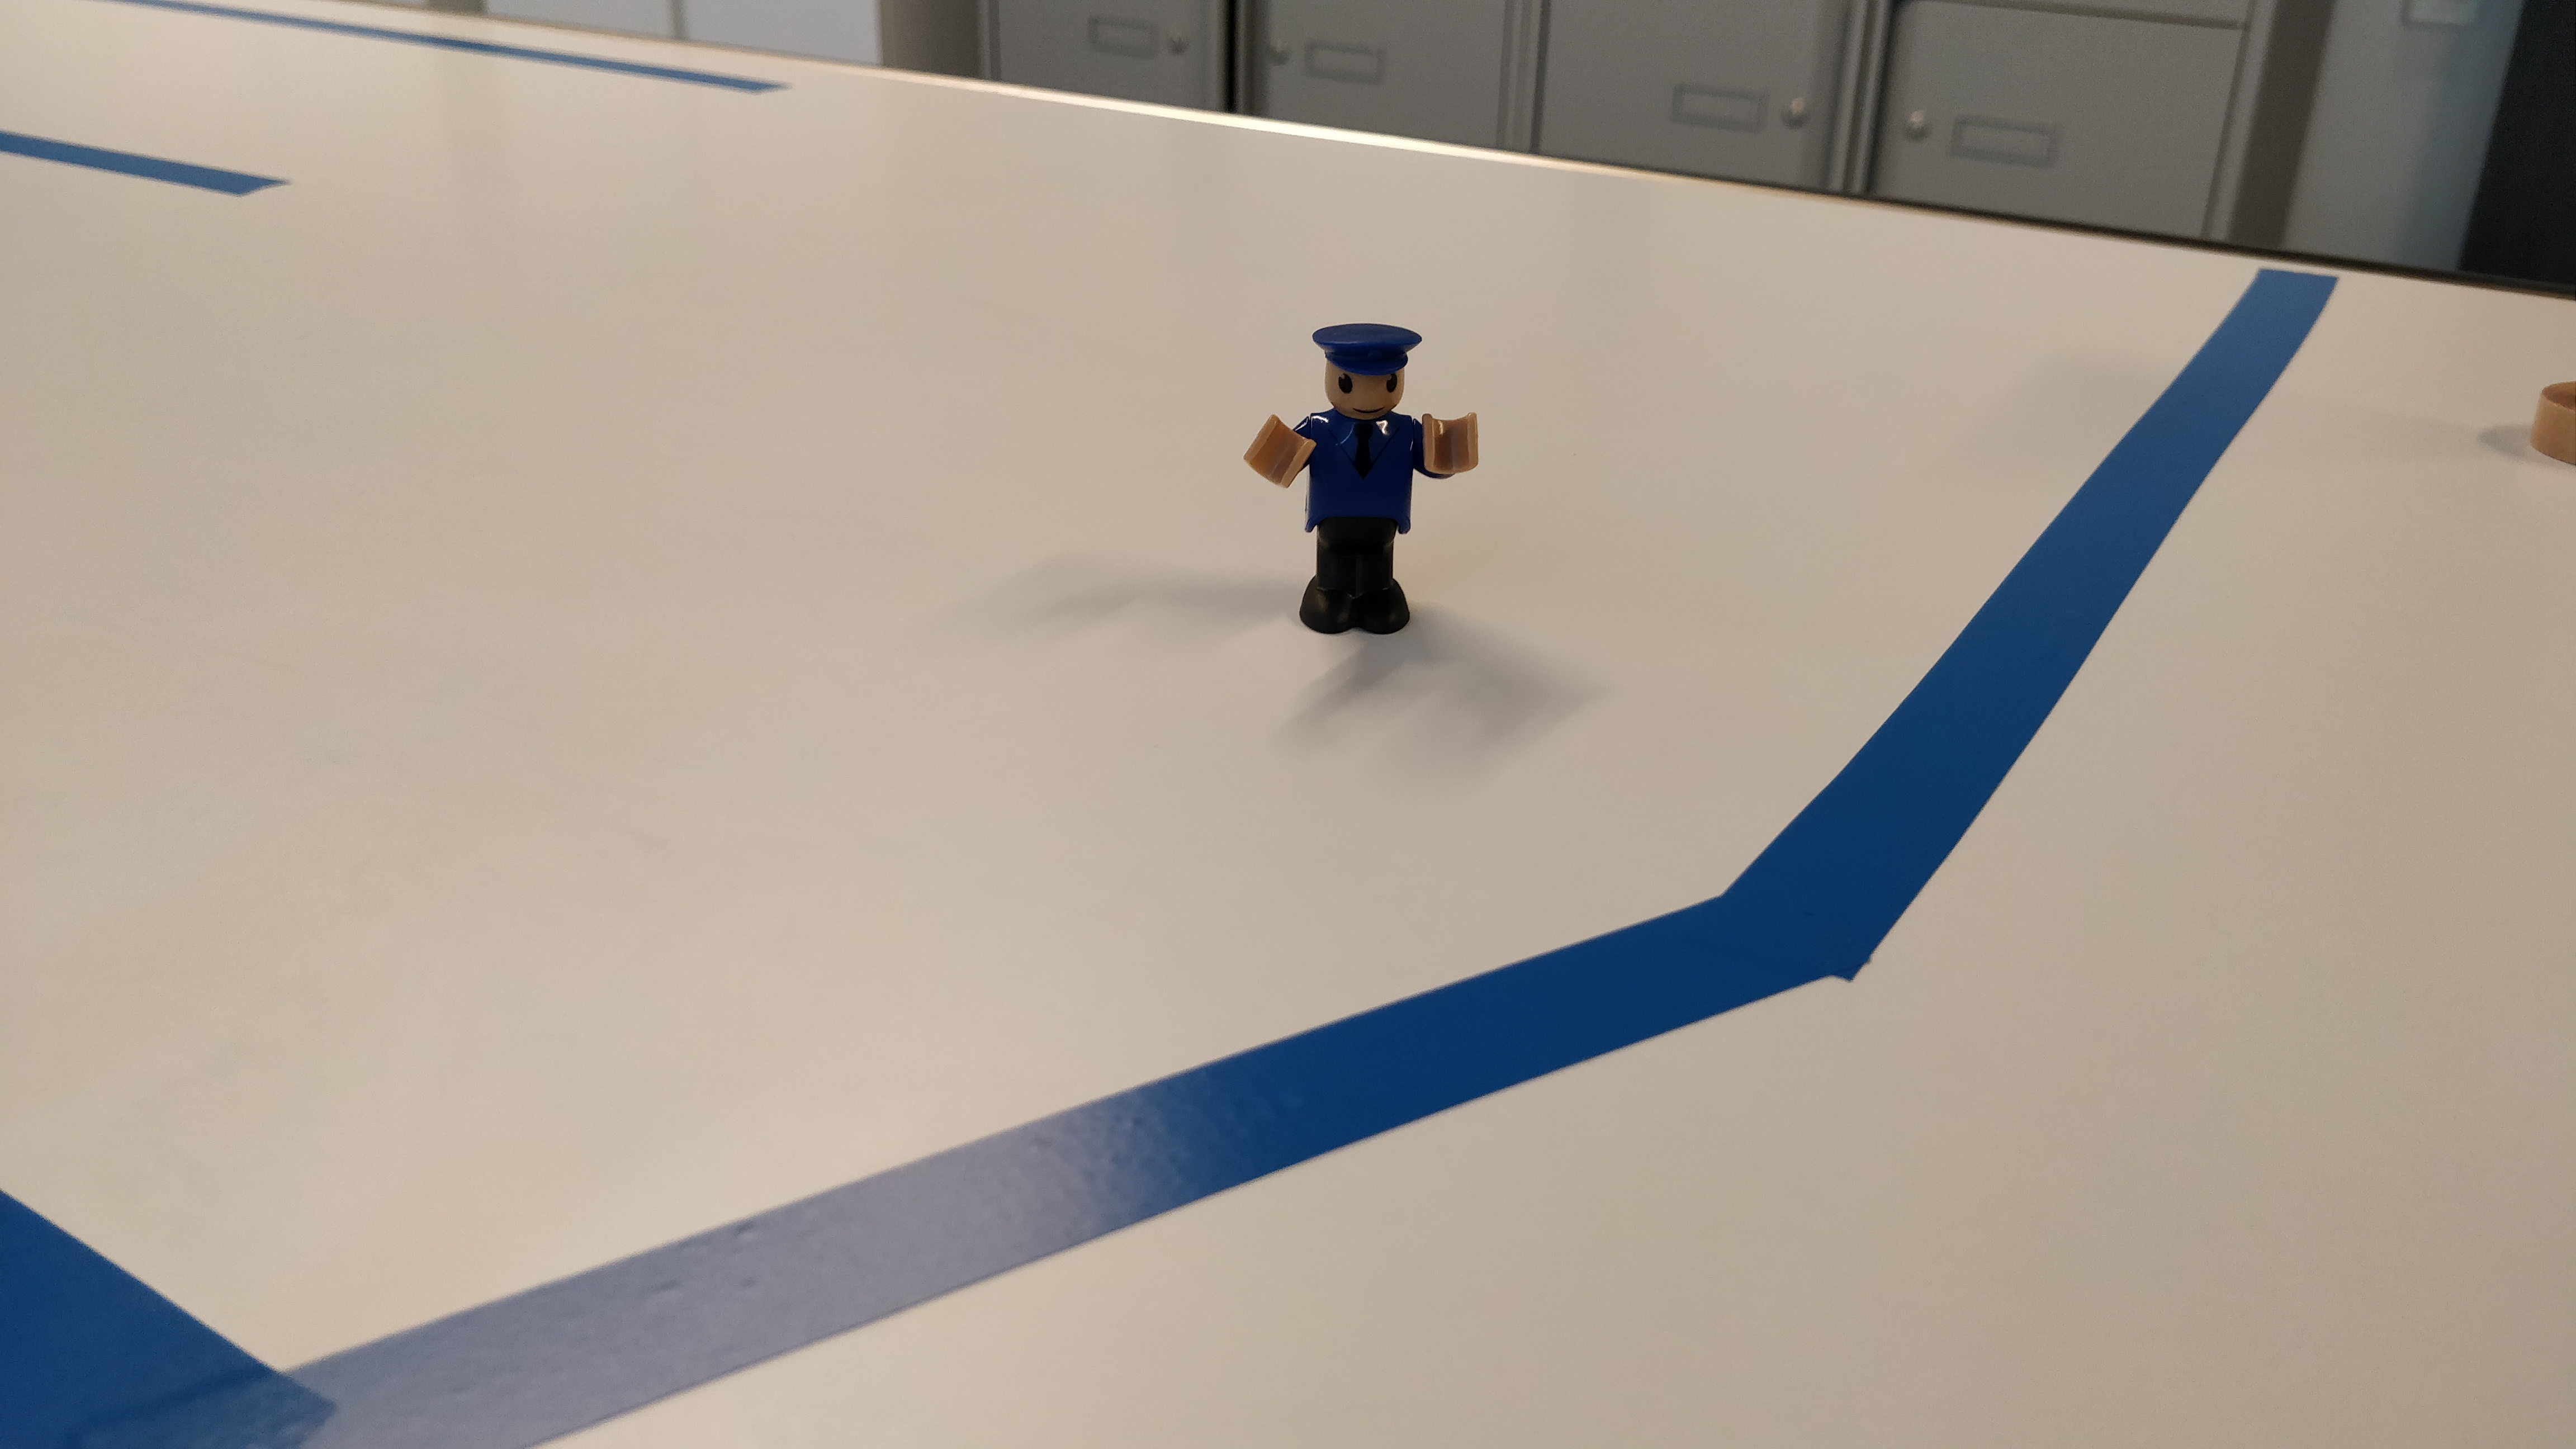Person: (1238, 320, 1484, 640)
